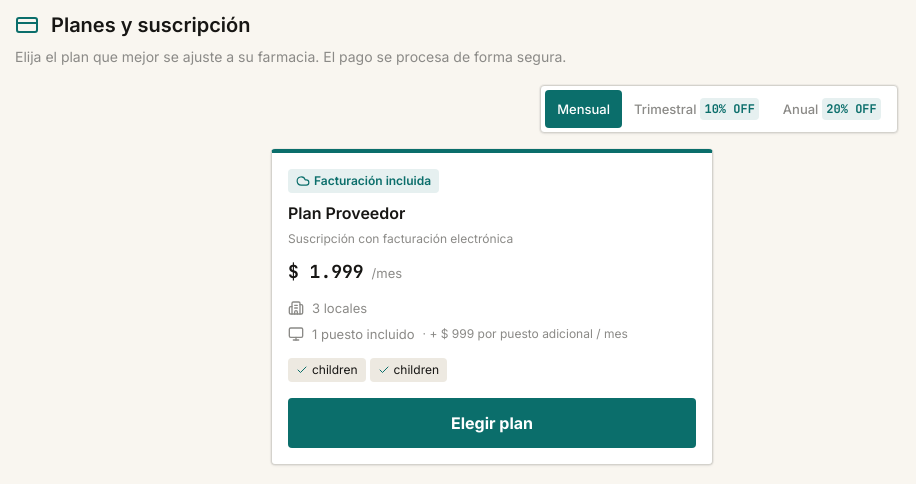
Test case: PlanCatalog › pricing › renders the discounted quarterly price after switching period
Click the radio button labelled "Trimestral 10% OFF" at (696, 109), box [622,90,771,128]
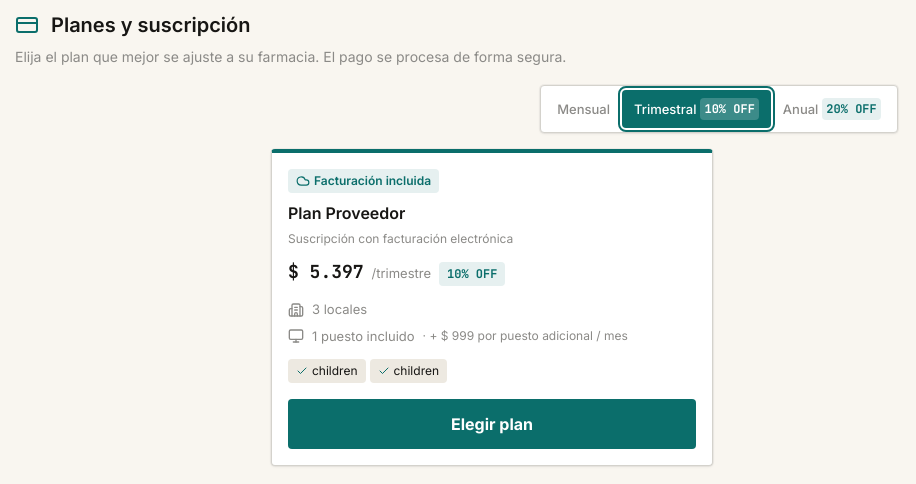
Check: the 1st text "10% OFF" is shown, box [700,98,759,120]
Check: the text "$ 5.397" is shown, box [288,261,364,284]
Check: the text "/trimestre" is shown, box [372,262,431,285]
